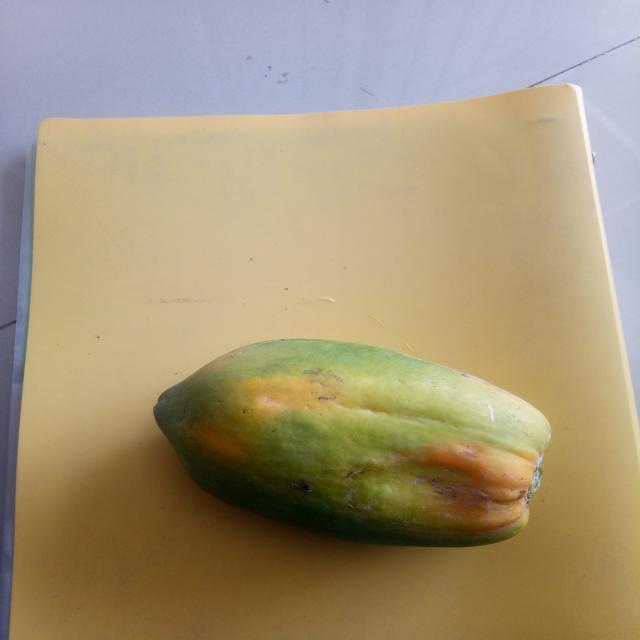Pepaya rippen: (131, 338, 568, 554)
